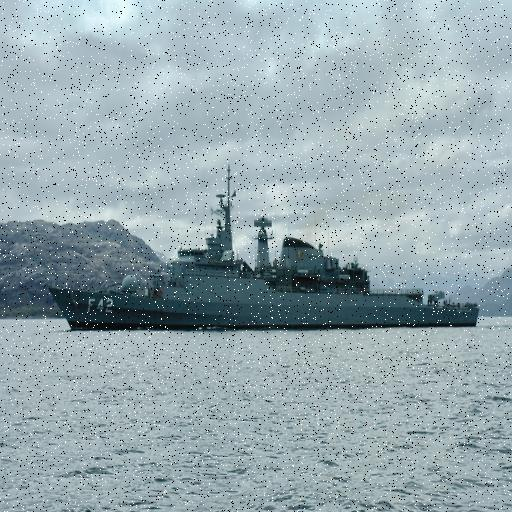Fragata: (47, 159, 482, 335)
